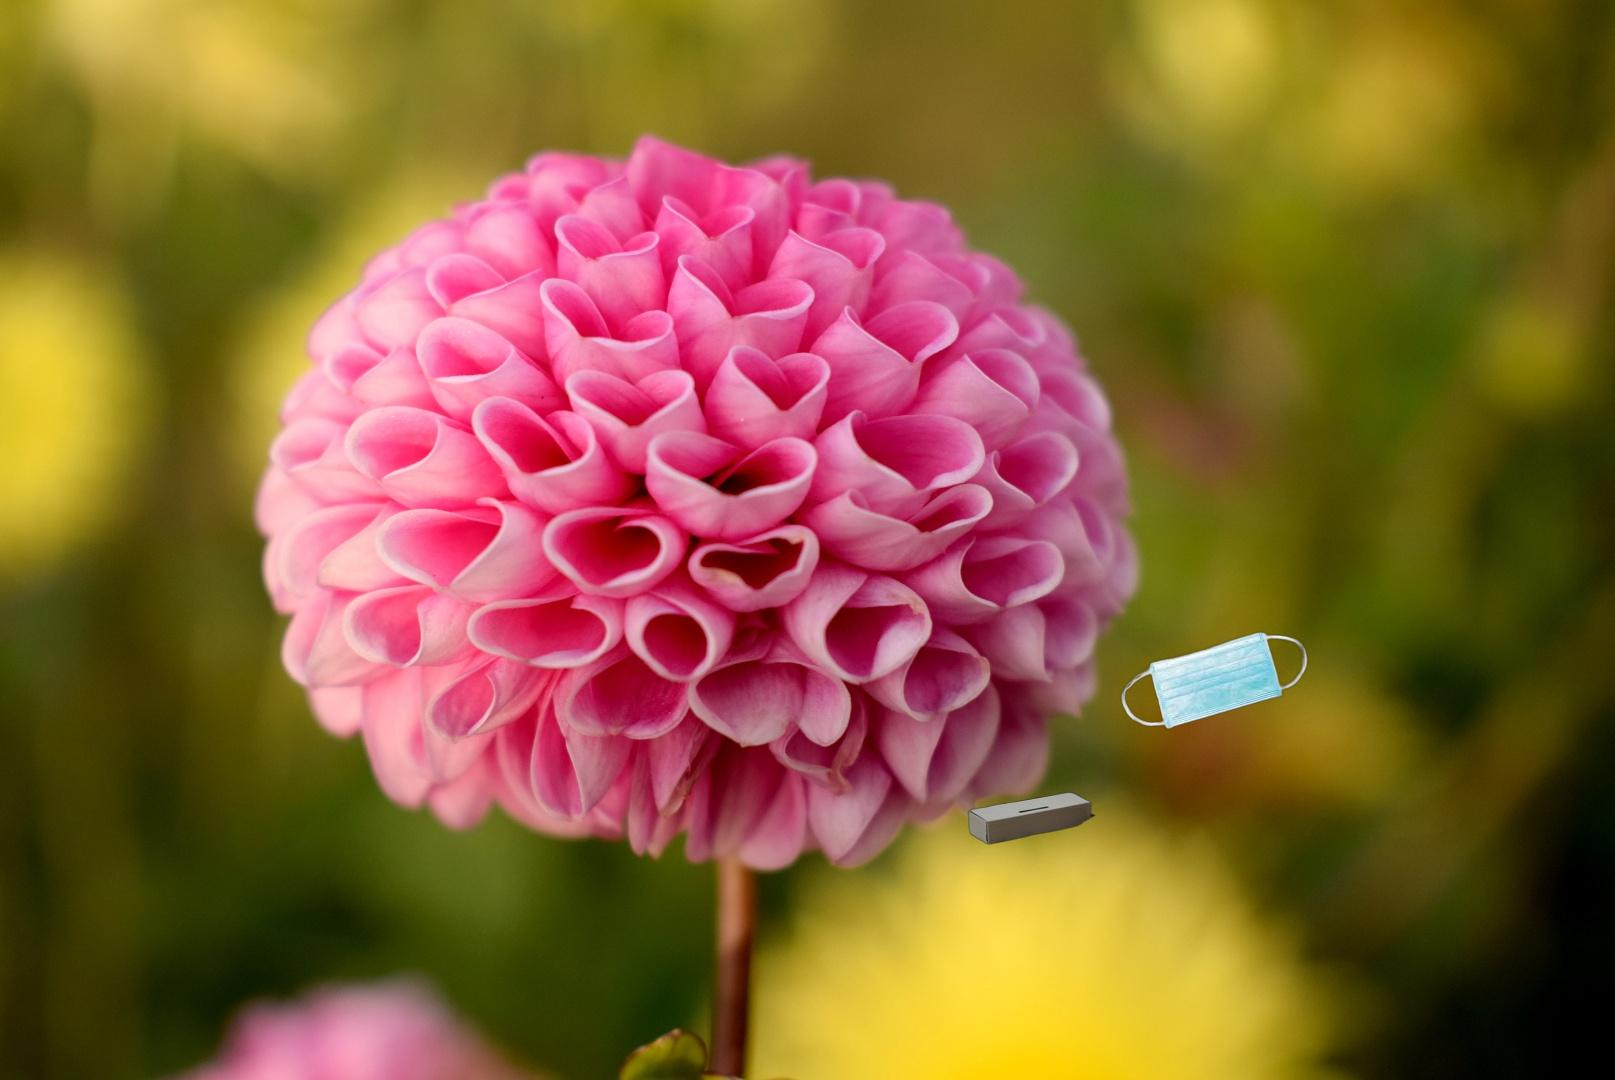trash: (1118, 630, 1310, 732)
trashbox-cardboard: (967, 790, 1262, 1028)
